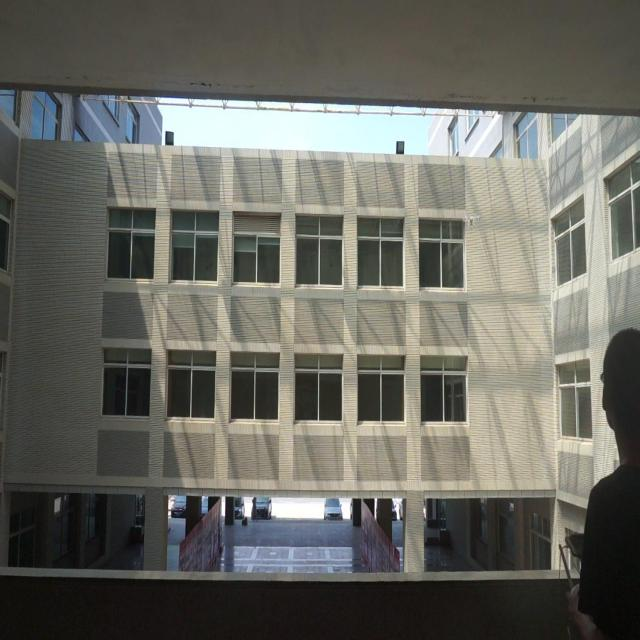UAV: (462, 216, 480, 228)
